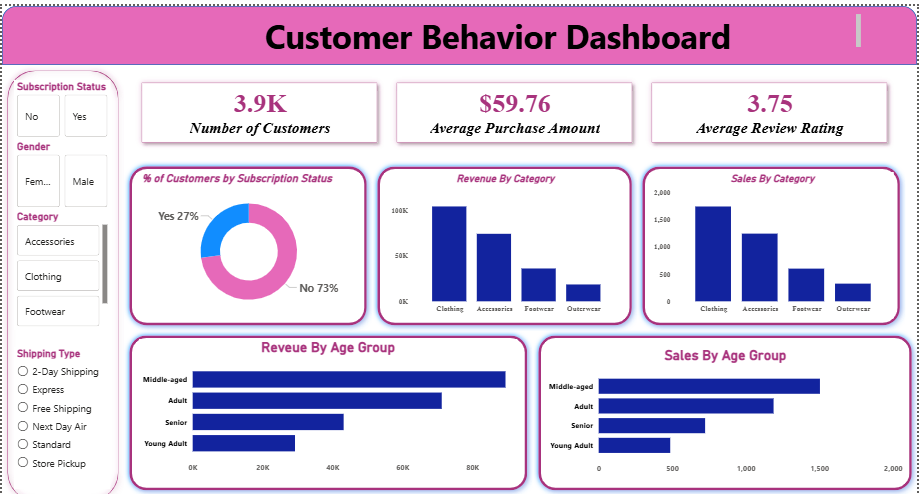

What the dashboard file says about the page in this screenshot:
{"tool":"powerbi","page":{"name":"Page 1","canvas":[1500,820],"ordinal":0},"visuals":[{"type":"cardVisual","fields":{"Data":["customer_db customer_behavior.Number of Customers","customer_db customer_behavior.Average Purchase Amount","customer_db customer_behavior.Average Review Rating"]},"box":[200,96.7,1281.7,156.7],"z":0},{"type":"shape","box":[0,0,1500,96.7],"z":1000},{"type":"textbox","box":[0,8.3,1413.3,71.7],"z":2000},{"type":"shape","box":[200,253.3,406.7,278.3],"z":3000},{"type":"donutChart","title":"% of Customers by Subscription Status ","fields":{"Category":["customer_db customer_behavior.Subscription Status"],"Y":["CountNonNull(customer_db customer_behavior.Customer ID)"]},"box":[225,271.7,360,240],"z":4000},{"type":"shape","box":[606.7,253.3,435,278.3],"z":5000},{"type":"shape","box":[1041.7,253.3,440,278.3],"z":6000},{"type":"clusteredColumnChart","title":"Revenue By Category","fields":{"Y":["Sum(customer_db customer_behavior.Purchase Amount (USD))"],"Category":["customer_db customer_behavior.Category"]},"box":[633.3,271.7,385,240],"z":7000},{"type":"clusteredColumnChart","title":"Sales By Category","fields":{"Y":["CountNonNull(customer_db customer_behavior.Customer ID)"],"Category":["customer_db customer_behavior.Category"]},"box":[1063.3,271.7,398.3,240],"z":8000},{"type":"shape","box":[0,96.7,200,723.3],"z":9000},{"type":"advancedSlicerVisual","fields":{"Values":["customer_db customer_behavior.Subscription Status"]},"box":[20,121.7,158.3,98.3],"z":10000},{"type":"advancedSlicerVisual","fields":{"Values":["customer_db customer_behavior.Gender"]},"box":[20,220,158.3,115],"z":11000},{"type":"advancedSlicerVisual","fields":{"Values":["customer_db customer_behavior.Category"]},"box":[20,335,158.3,196.7],"z":12000},{"type":"listSlicer","fields":{"Values":["customer_db customer_behavior.Shipping Type"]},"box":[20,558.3,158.3,233.3],"z":13000},{"type":"shape","box":[200,531.7,670,271.7],"z":14000},{"type":"clusteredBarChart","title":"Reveue By Age Group","fields":{"Y":["Sum(customer_db customer_behavior.Purchase Amount (USD))"],"Category":["customer_db customer_behavior.Age Group"]},"box":[225,546.7,620,228.3],"z":15000},{"type":"shape","box":[870,531.7,630,271.7],"z":16000},{"type":"clusteredBarChart","title":"Sales By Age Group","fields":{"Y":["CountNonNull(customer_db customer_behavior.Customer ID)"],"Category":["customer_db customer_behavior.Age Group"]},"box":[890,558.3,591.7,216.7],"z":17000}]}

Visuals, with their boxes in screenshot pixels (x1, y1, x2, y2), scaled from the page's 1500x820 canvas onto the 919x494 screenshot:
cardVisual - customer_db customer_behavior.Number of Customers x customer_db customer_behavior.Average Purchase Amount: x1=123 y1=58 x2=908 y2=153
shape: x1=0 y1=0 x2=918 y2=58
textbox: x1=0 y1=5 x2=866 y2=48
shape: x1=123 y1=153 x2=372 y2=320
"% of Customers by Subscription Status " donutChart: x1=138 y1=164 x2=358 y2=308
shape: x1=372 y1=153 x2=638 y2=320
shape: x1=638 y1=153 x2=908 y2=320
"Revenue By Category" clusteredColumnChart: x1=388 y1=164 x2=624 y2=308
"Sales By Category" clusteredColumnChart: x1=651 y1=164 x2=895 y2=308
shape: x1=0 y1=58 x2=123 y2=493
advancedSlicerVisual - customer_db customer_behavior.Subscription Status: x1=12 y1=73 x2=109 y2=133
advancedSlicerVisual - customer_db customer_behavior.Gender: x1=12 y1=133 x2=109 y2=202
advancedSlicerVisual - customer_db customer_behavior.Category: x1=12 y1=202 x2=109 y2=320
listSlicer - customer_db customer_behavior.Shipping Type: x1=12 y1=336 x2=109 y2=477
shape: x1=123 y1=320 x2=533 y2=484
"Reveue By Age Group" clusteredBarChart: x1=138 y1=329 x2=518 y2=467
shape: x1=533 y1=320 x2=918 y2=484
"Sales By Age Group" clusteredBarChart: x1=545 y1=336 x2=908 y2=467
